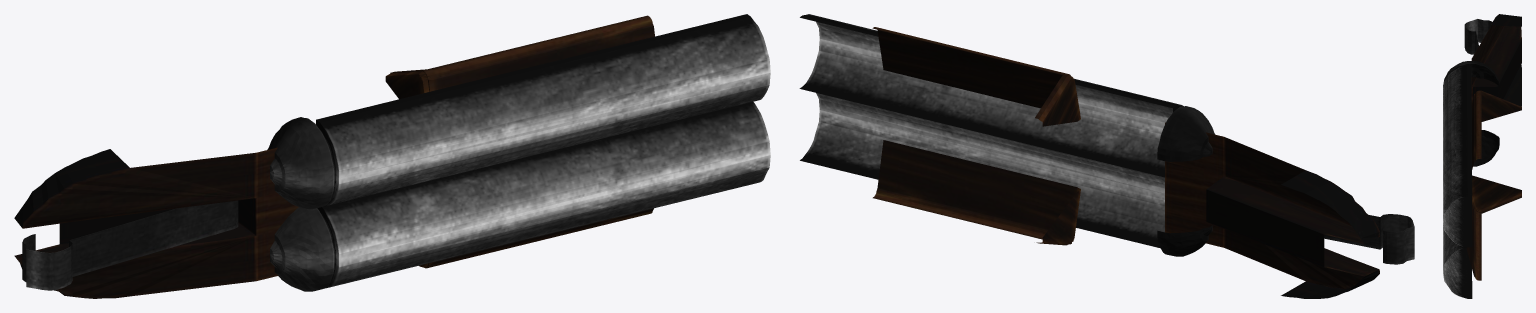
The model's file is v_shot2_0.obj.
The picture shows the model from 3 angles, left to right: view 1: azimuth 30°, elevation 25°; view 2: azimuth 150°, elevation 25°; view 3: azimuth 270°, elevation 25°; orthographic projection. The views are drawn at different scales.
Bounding box in the file's own units: 10.74 × 2.81 × 1.65.
Materials: 1 (1 with a texture image).
